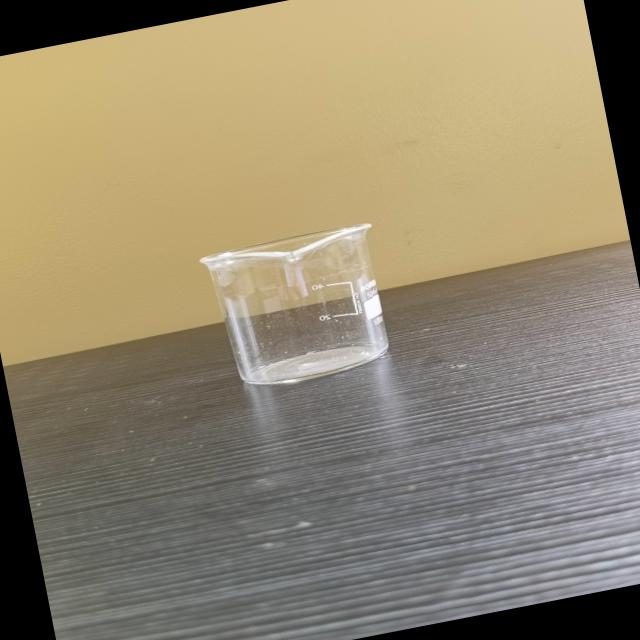beaker: (186, 214, 413, 402)
